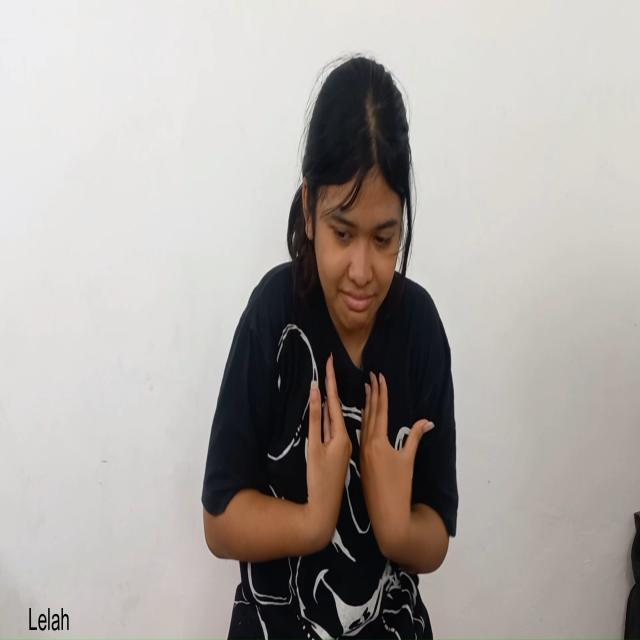Lelah -BISINDO-: (202, 350, 450, 576)
